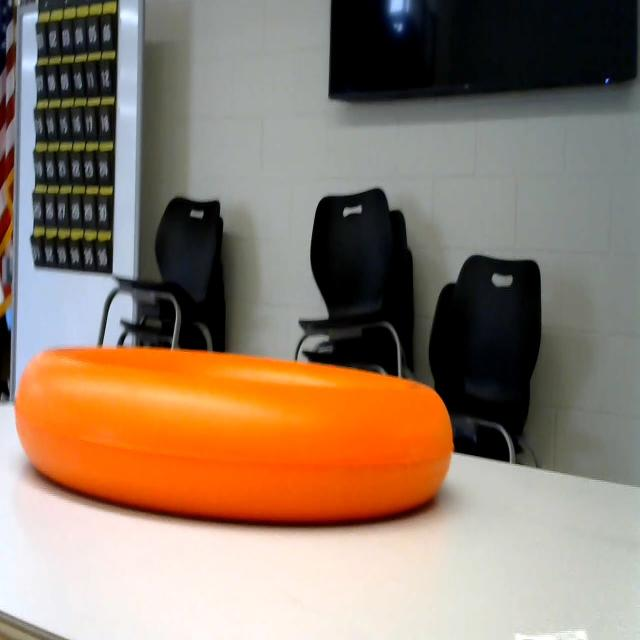note: (14, 339, 484, 550)
